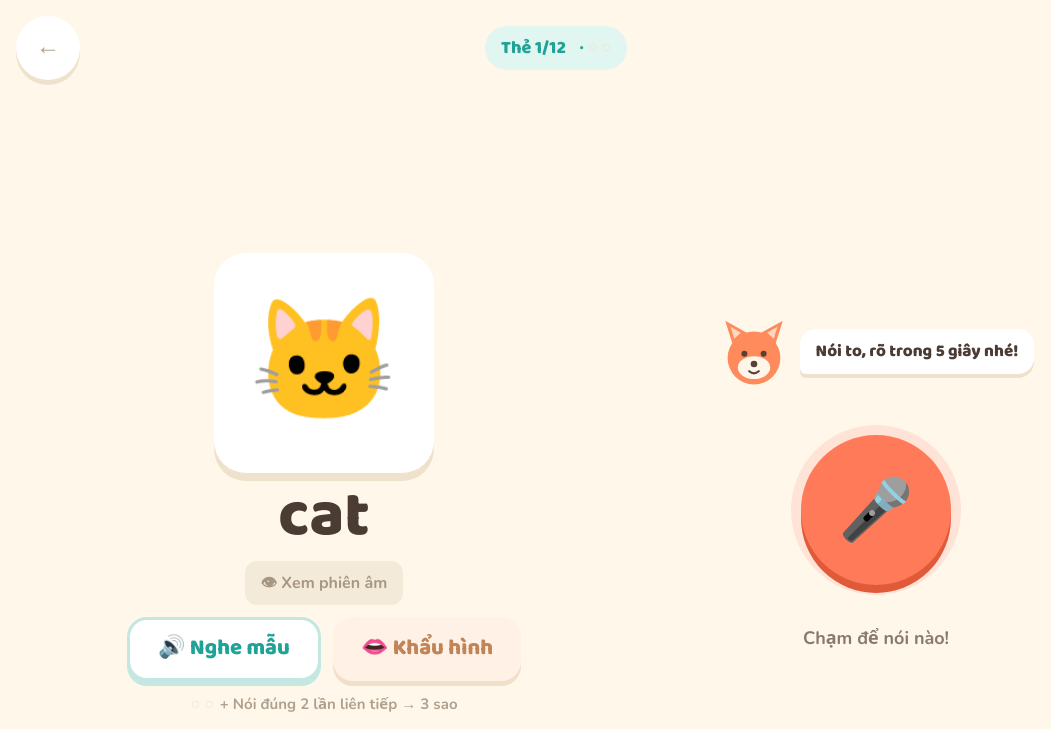
Scenario: Word Pop: hidden IPA + two-in-a-row streak › hides the IPA behind "Xem phiên âm" until tapped
Expected: the text "/kæt/" is not shown
Click the button "👁 Xem phiên âm": click(324, 583) x1=245 y1=561 x2=403 y2=605
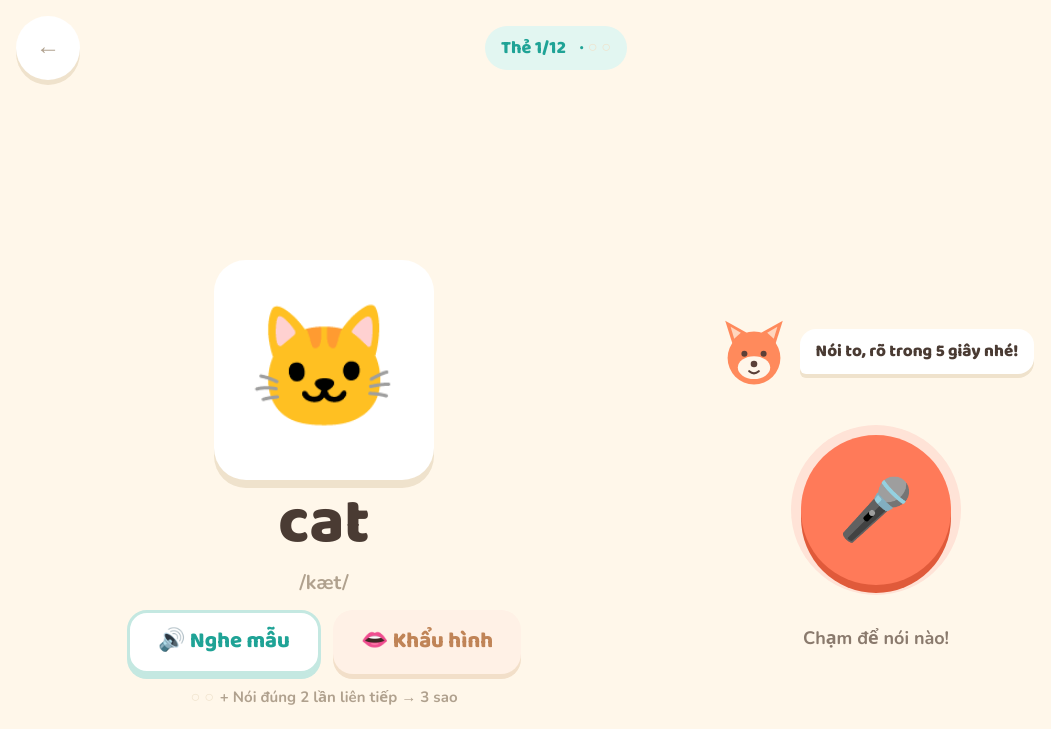
Now the text "/kæt/" is shown, box x1=300 y1=568 x2=349 y2=598
Now the button "Xem phiên âm" is gone
